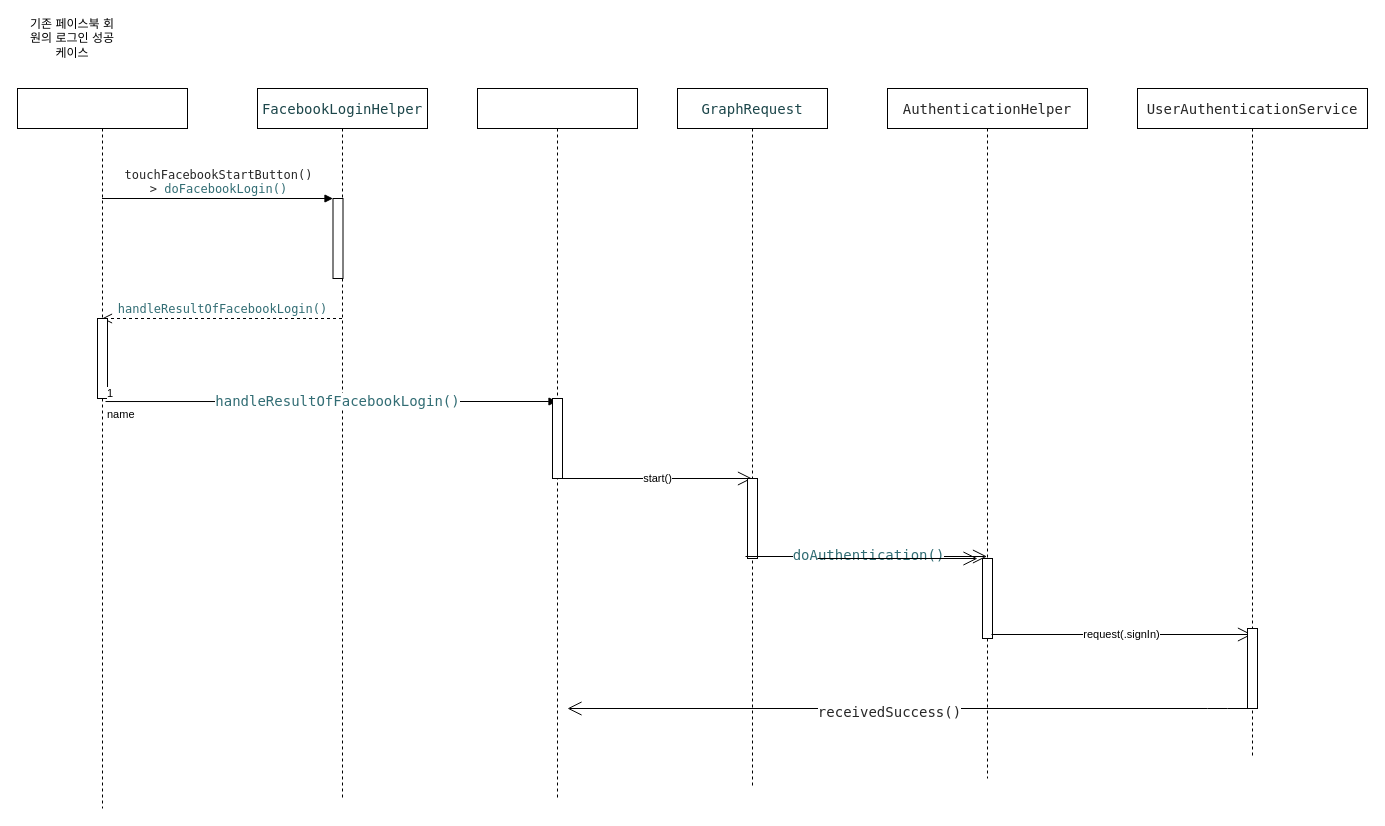
Image size: 1385x826. Some labels were removed from this diagram. The shapes that lost their labels are listed below. From the top down, each one's box as (x1, y1, x2, y2) in pixels, then its label:
(16, 88, 188, 808): WalkthroughViewController
(476, 88, 638, 798): WalkthroughViewModel
